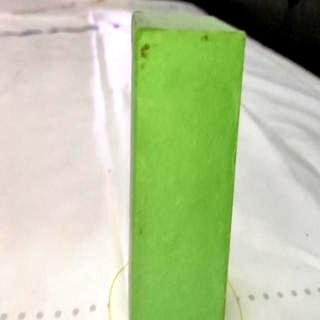greenbox: (130, 7, 248, 320)
